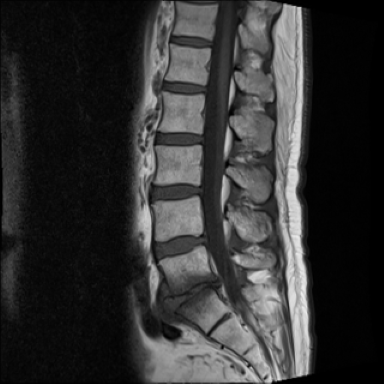Degenerative Disc Disease (DDD): (169, 273, 229, 314)
Lumbar Disc Bulge (LDB): (163, 274, 229, 319), (150, 231, 215, 265)
Normal IVD: (145, 179, 204, 204), (149, 130, 204, 148), (165, 33, 214, 51), (160, 79, 208, 96)
Spinal Stenosis (SS): (212, 273, 227, 293), (201, 226, 212, 249)
Spondylolisthesis: (156, 265, 234, 336), (140, 213, 221, 272)
